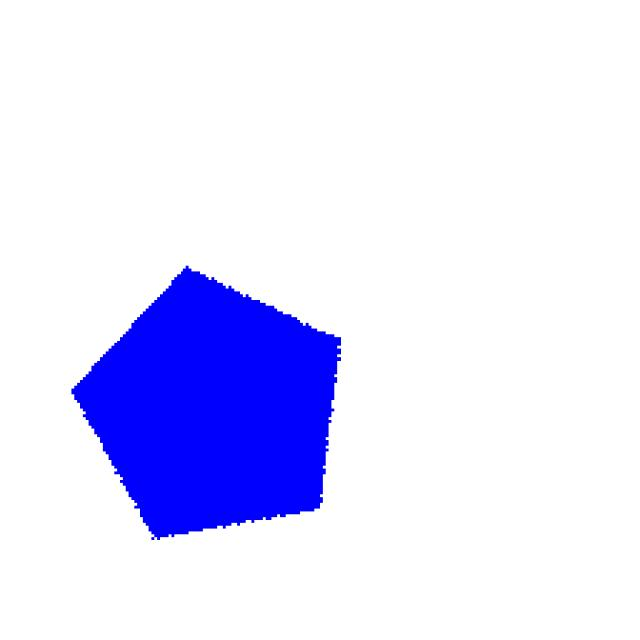Pentagon: (27, 264, 389, 574)
